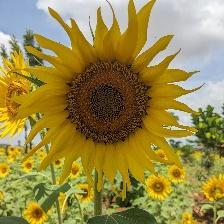sunflower: (31, 11, 182, 188), (1, 49, 36, 135), (198, 173, 224, 207), (23, 199, 55, 224), (145, 176, 175, 198), (167, 162, 188, 186), (67, 165, 83, 179), (54, 154, 66, 169), (1, 165, 12, 180), (25, 162, 39, 172), (16, 146, 23, 157), (10, 146, 14, 155)
